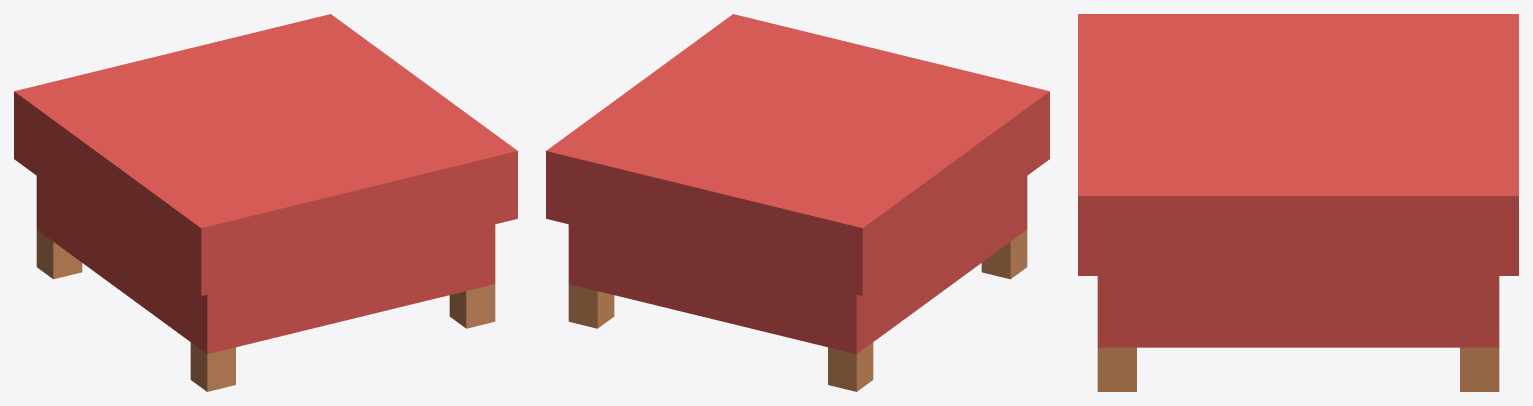
The model's file is Sofa.fbx.
3 renders of one model, left to right at view 1: azimuth 30°, elevation 25°; view 2: azimuth 150°, elevation 25°; view 3: azimuth 270°, elevation 25°, orthographic. The views are drawn at different scales.
Visible parts, largest first — view 1: loungeSofaOttoman; view 2: loungeSofaOttoman; view 3: loungeSofaOttoman.
Part boxes in pixels (x1=…): loungeSofaOttoman: x1=14, y1=14, x2=517, y2=391; loungeSofaOttoman: x1=546, y1=14, x2=1049, y2=391; loungeSofaOttoman: x1=1078, y1=14, x2=1518, y2=391.
Size of the model in its own units: 4.4 by 2.3 by 4.5.
